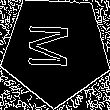M_E: (31, 26, 81, 74)
